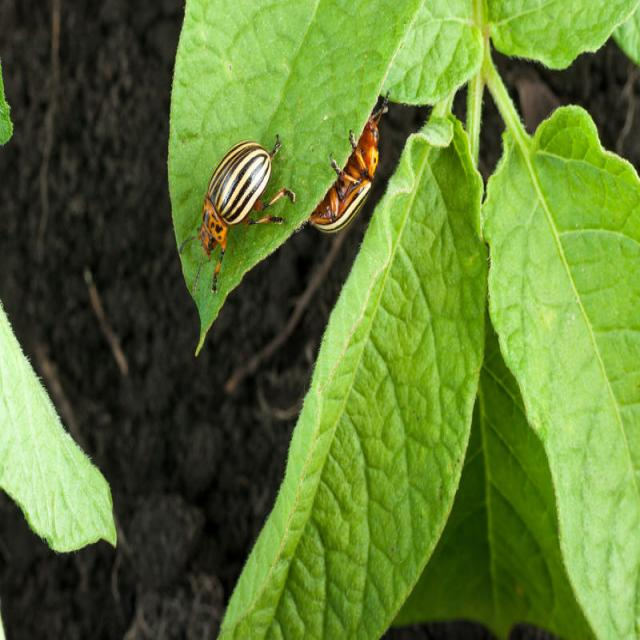ShuCaiHuaBanChong-Grown-: (189, 120, 284, 278), (308, 112, 386, 235)
